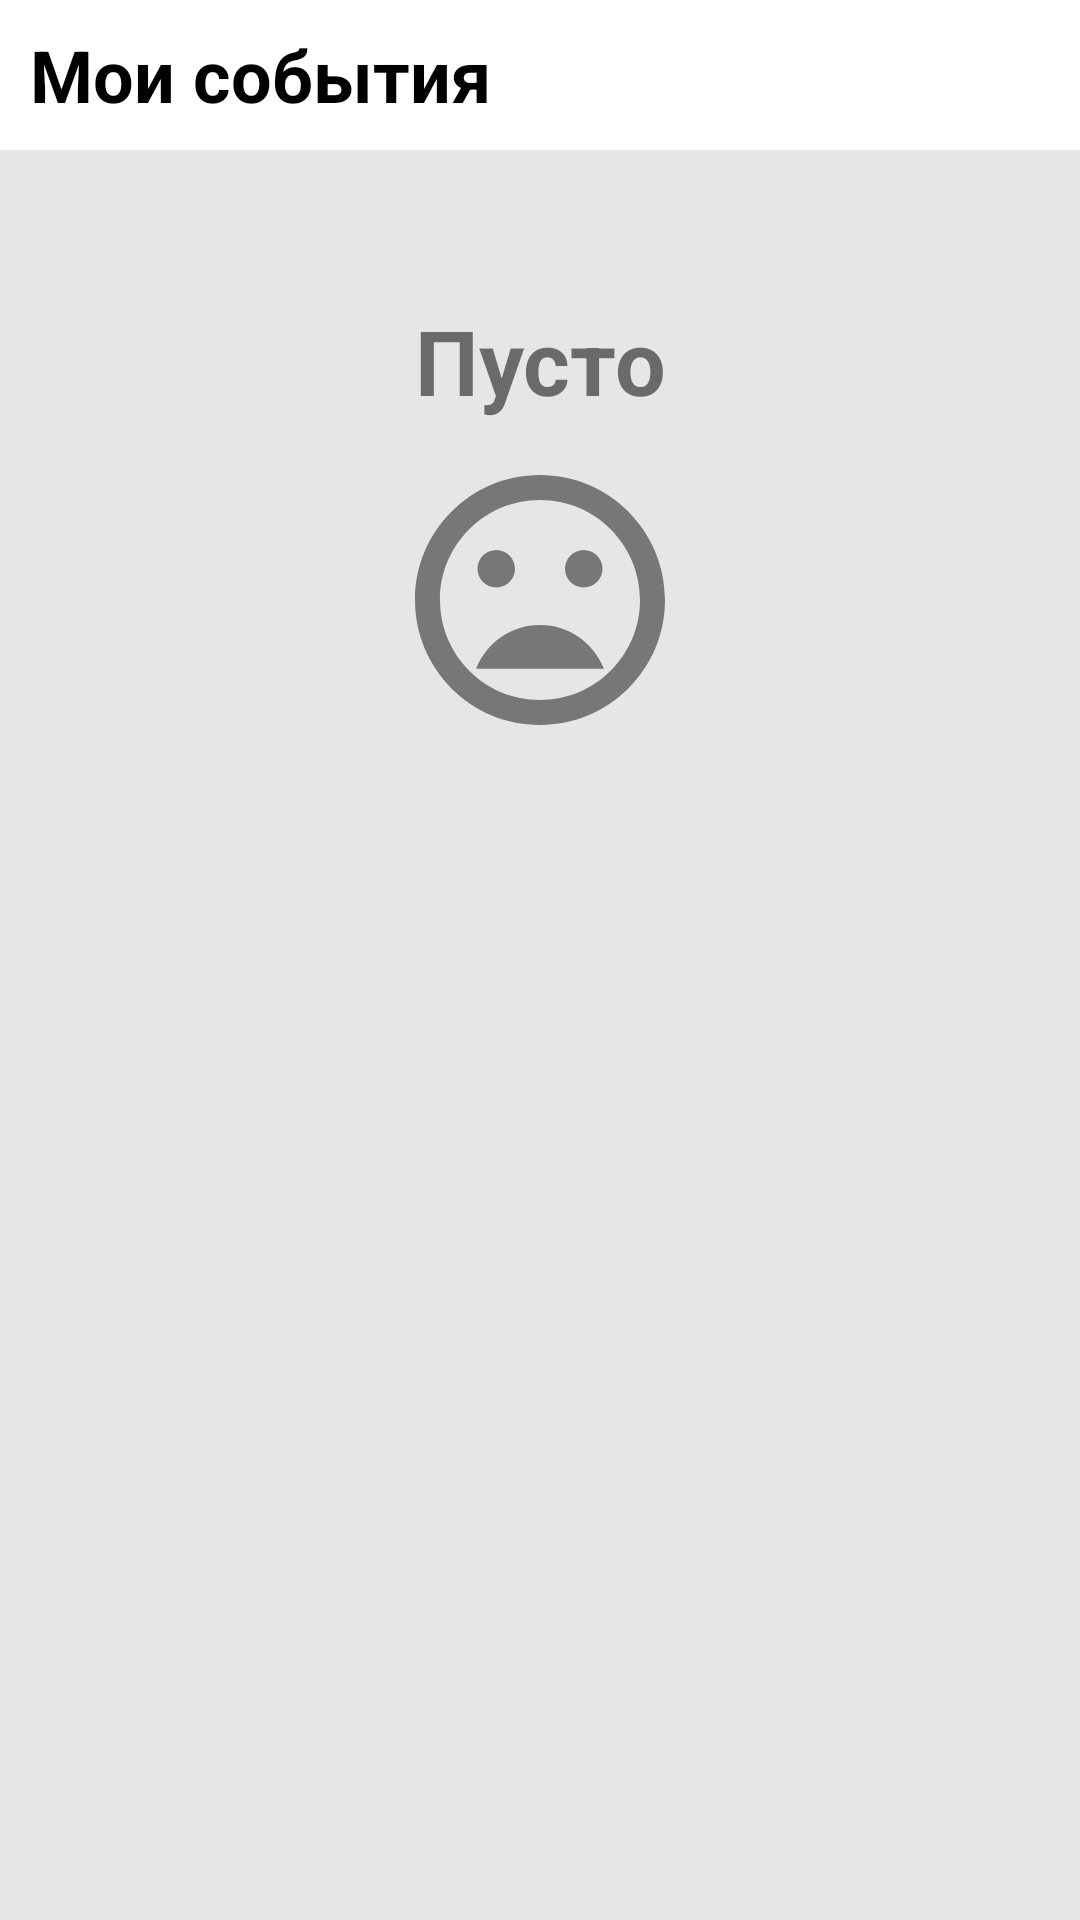

Where to tap for icons on this 1080w x 1920h app screen, as (x,y):
mood bad: (540,600)
